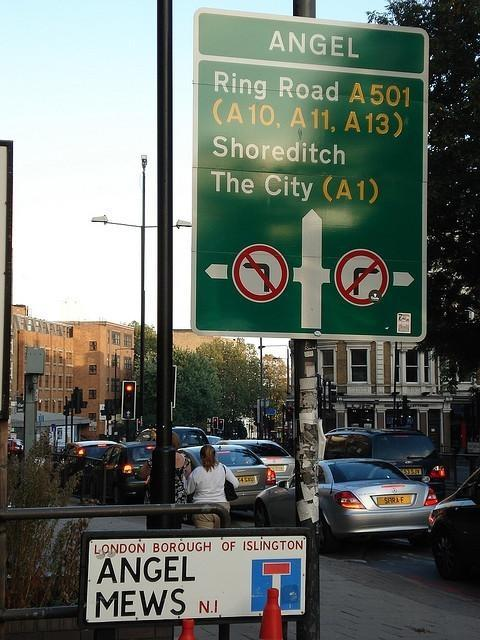car: (254, 458, 440, 554), (323, 428, 448, 498), (426, 468, 480, 582), (183, 444, 276, 506), (88, 440, 156, 506), (63, 438, 122, 497), (215, 440, 296, 482), (171, 426, 210, 448), (8, 439, 24, 452), (206, 434, 222, 444)
